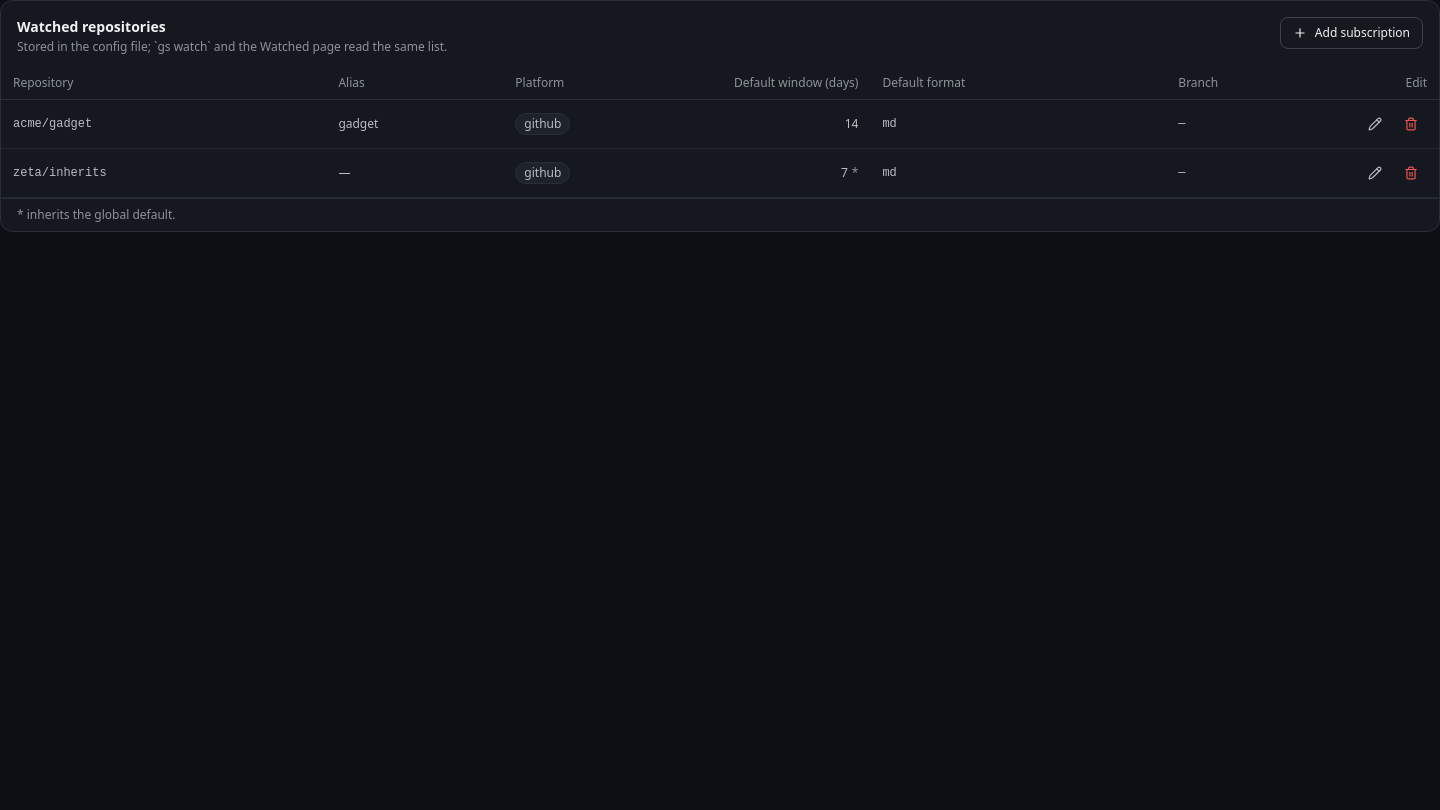
Test: SubscriptionSettings › refuses to save without a repository
Expected: the text "acme/gadget" is shown, [1,100,326,148]
Click the button "Add subscription" at coordinates (1351, 33), box [1280,17,1423,49]
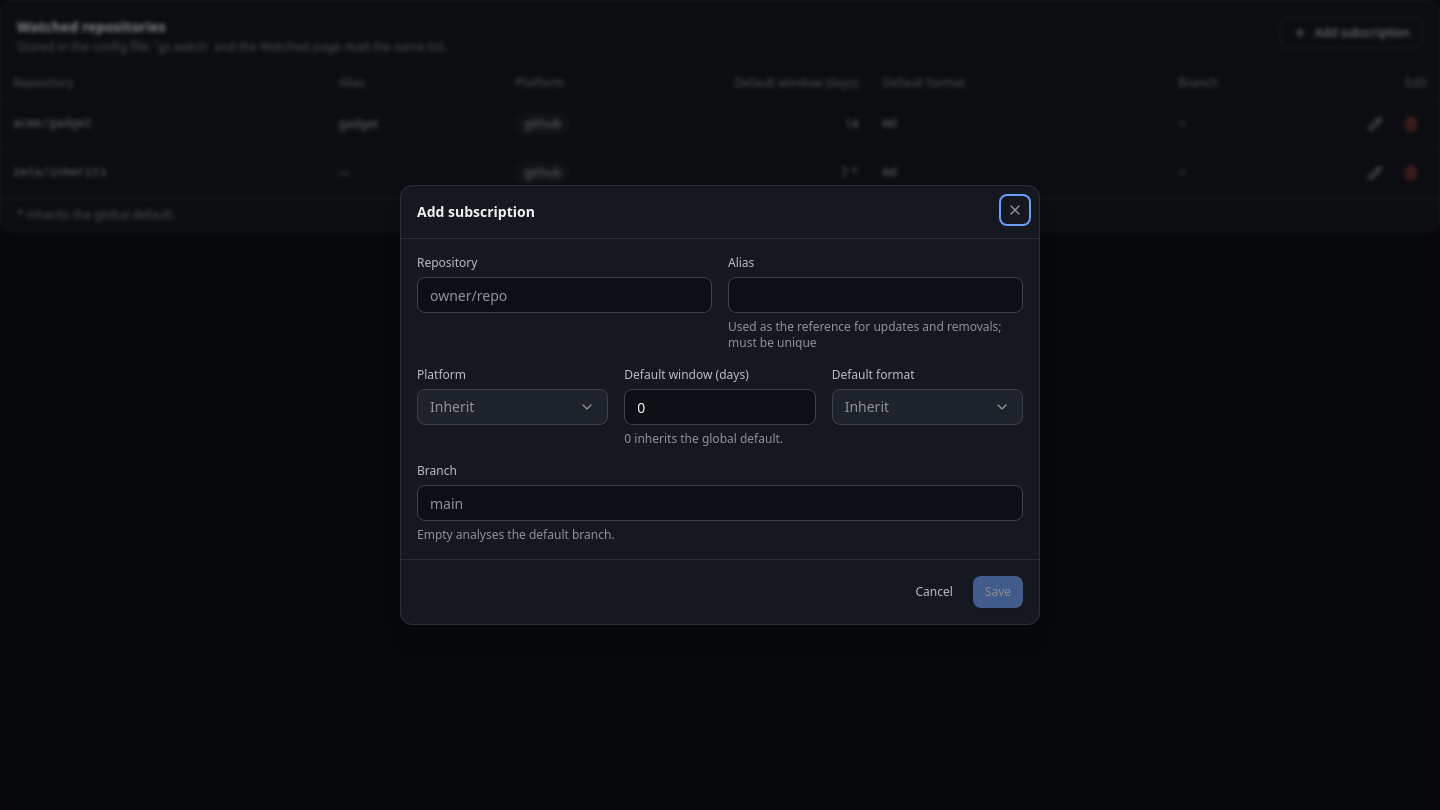
Now the button "Save" is disabled, box [973,576,1023,608]
